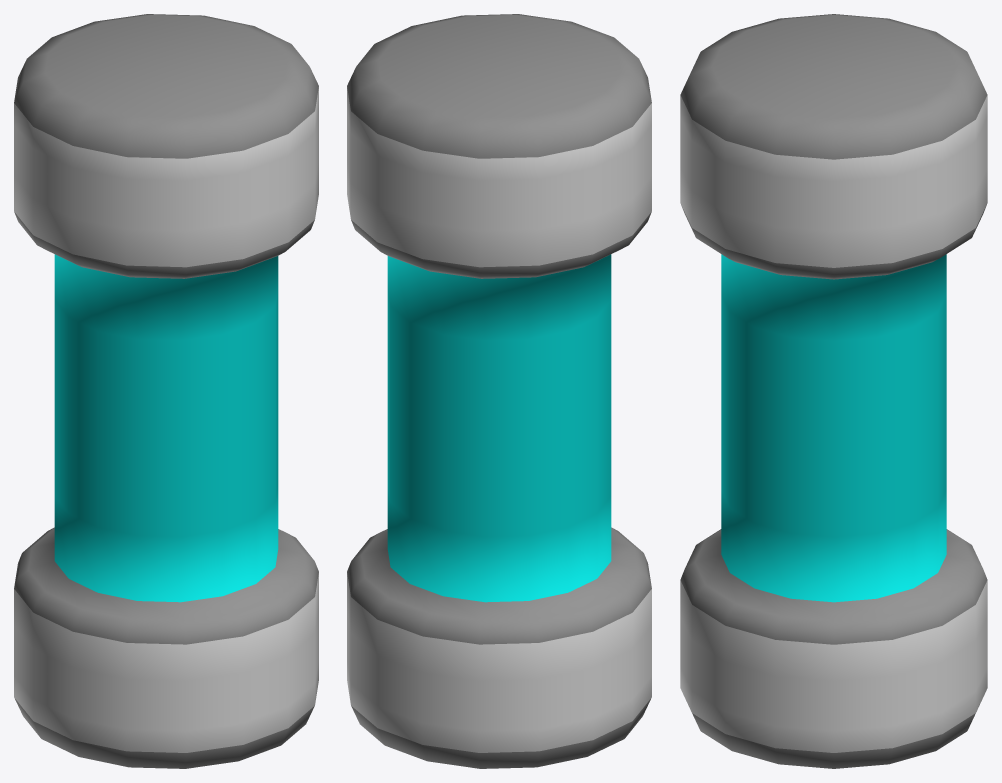
Rendered from Cilindro.fbx.
The picture shows the model from 3 angles, left to right: view 1: azimuth 30°, elevation 25°; view 2: azimuth 150°, elevation 25°; view 3: azimuth 270°, elevation 25°; orthographic projection.
Visible parts, largest first — view 1: Cylinder; view 2: Cylinder; view 3: Cylinder.
Boxes of the visible parts, x1,y1,x2,y2 form: Cylinder: (14,14,318,768); Cylinder: (347,14,651,768); Cylinder: (680,14,987,768).
Size of the model in its own units: 21.76 by 50.75 by 21.76.
